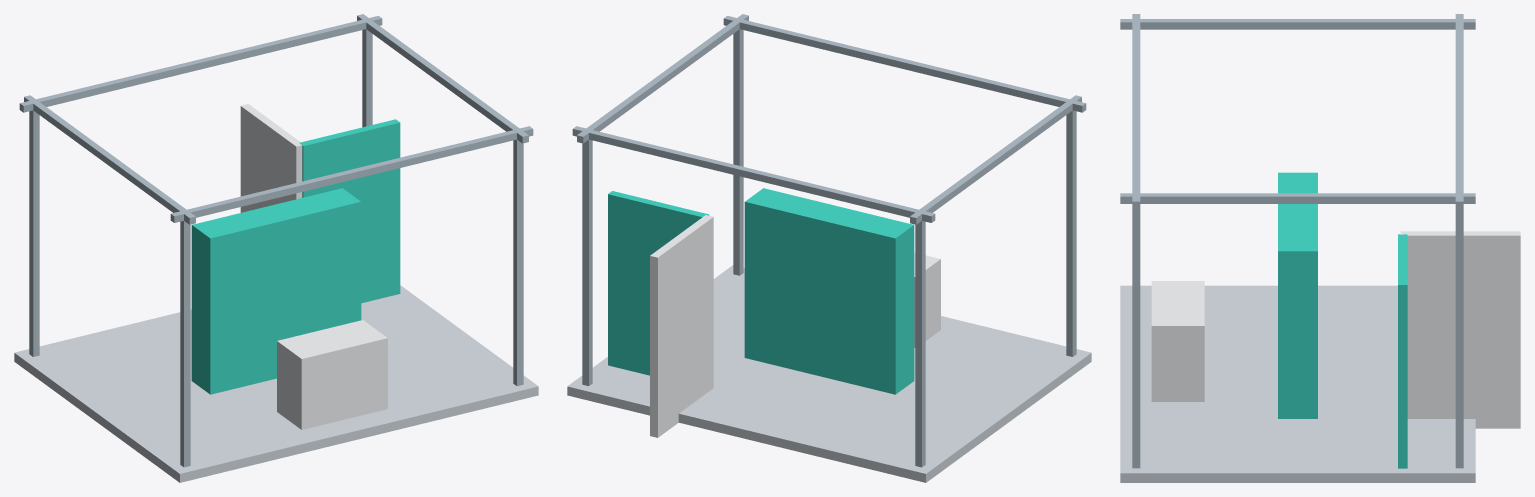
The picture shows the model from 3 angles, left to right: view 1: azimuth 30°, elevation 25°; view 2: azimuth 150°, elevation 25°; view 3: azimuth 270°, elevation 25°; orthographic projection. The views are drawn at different scales.
Visible parts, largest first — view 1: Exhibition Booth Concept; view 2: Exhibition Booth Concept; view 3: Exhibition Booth Concept.
Part boxes in pixels (x1=…): Exhibition Booth Concept: x1=14, y1=14, x2=538, y2=482; Exhibition Booth Concept: x1=567, y1=14, x2=1091, y2=482; Exhibition Booth Concept: x1=1120, y1=14, x2=1520, y2=482.
Size of the model in its own units: 5 by 3.49 by 4.51.
